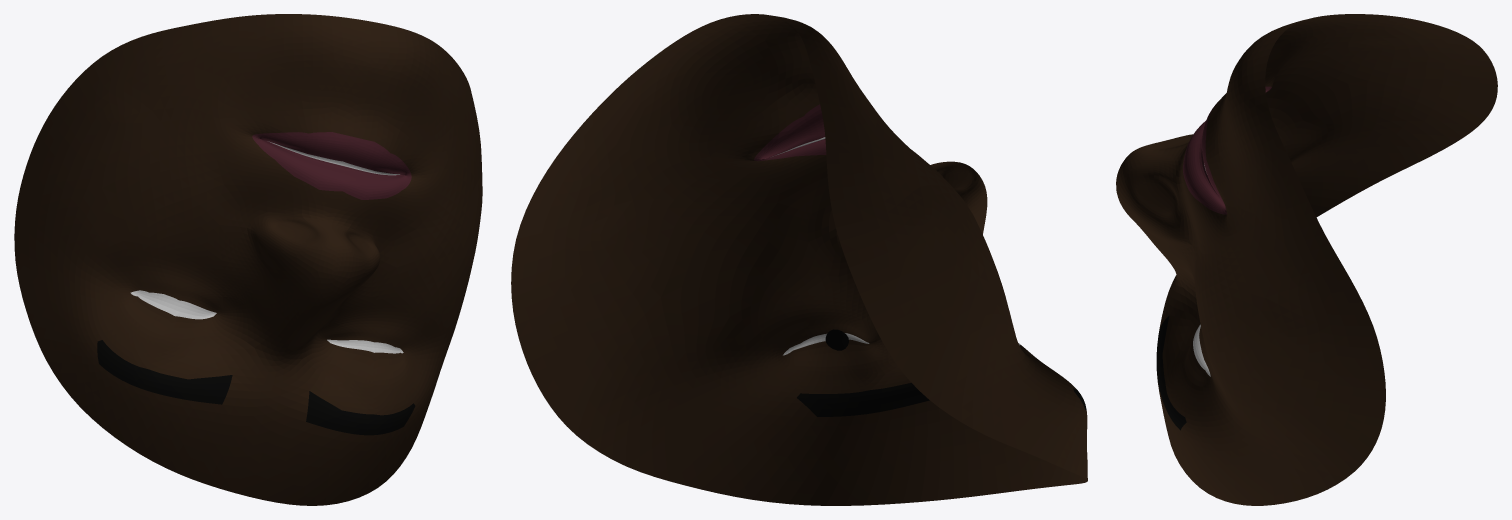
The model's file is frame_00252.obj.
The picture shows the model from 3 angles, left to right: view 1: azimuth 30°, elevation 25°; view 2: azimuth 150°, elevation 25°; view 3: azimuth 270°, elevation 25°; orthographic projection. The views are drawn at different scales.
Visible parts, largest first — view 1: face_mesh_subdivided; view 2: face_mesh_subdivided; view 3: face_mesh_subdivided.
Boxes of the visible parts, bbox=[...] form: face_mesh_subdivided: bbox=[14, 14, 482, 505]; face_mesh_subdivided: bbox=[511, 14, 1087, 505]; face_mesh_subdivided: bbox=[1116, 14, 1497, 505].
Bounding box in the file's own units: 0.5624 × 0.5375 × 0.4097.
